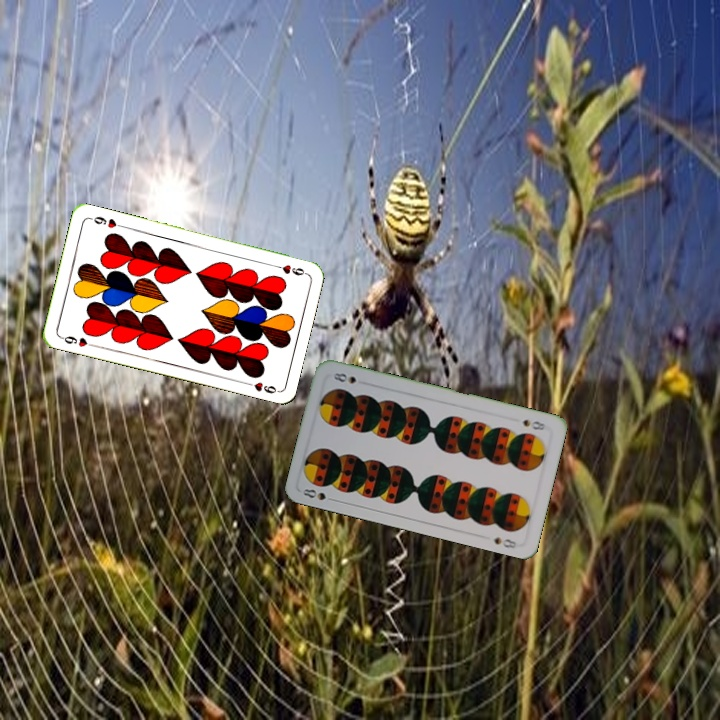H9: (269, 260, 308, 278), (57, 332, 97, 349)
S8: (299, 485, 339, 504), (519, 415, 549, 433)
